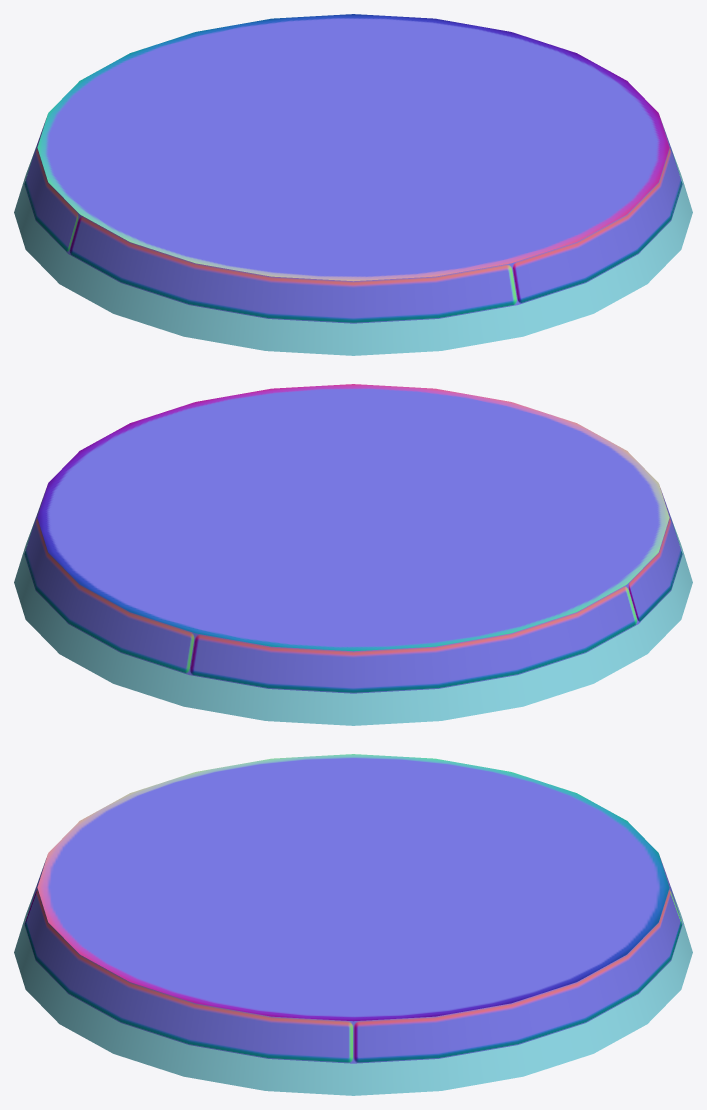
The model's file is Stand_01.FBX.
The picture shows the model from 3 angles, top to bottom: view 1: azimuth 30°, elevation 25°; view 2: azimuth 150°, elevation 25°; view 3: azimuth 270°, elevation 25°; orthographic projection.
Visible parts, largest first — view 1: Stand_01, Neon_002; view 2: Stand_01, Neon_002; view 3: Stand_01, Neon_002.
Boxes of the visible parts, box(x1,y1,x2,y2) form: Stand_01: box(24, 14, 682, 323); Neon_002: box(14, 150, 692, 355); Stand_01: box(24, 384, 682, 693); Neon_002: box(14, 520, 692, 725); Stand_01: box(24, 754, 682, 1063); Neon_002: box(14, 890, 692, 1095).
Size of the model in its own units: 1.69 by 0.1781 by 1.69.
Materials: 2 (1 with a texture image).
